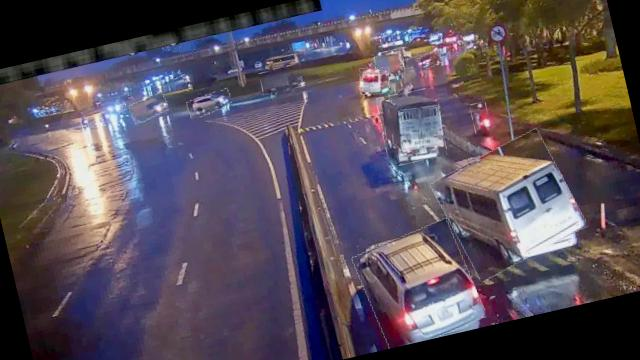Bike: (469, 102, 491, 135)
Bus: (430, 129, 587, 280), (356, 65, 392, 98)
Car: (352, 218, 486, 350), (186, 89, 234, 118), (416, 50, 444, 70)
Truck: (376, 86, 450, 168), (259, 62, 306, 96), (128, 92, 170, 123), (373, 48, 406, 79)
